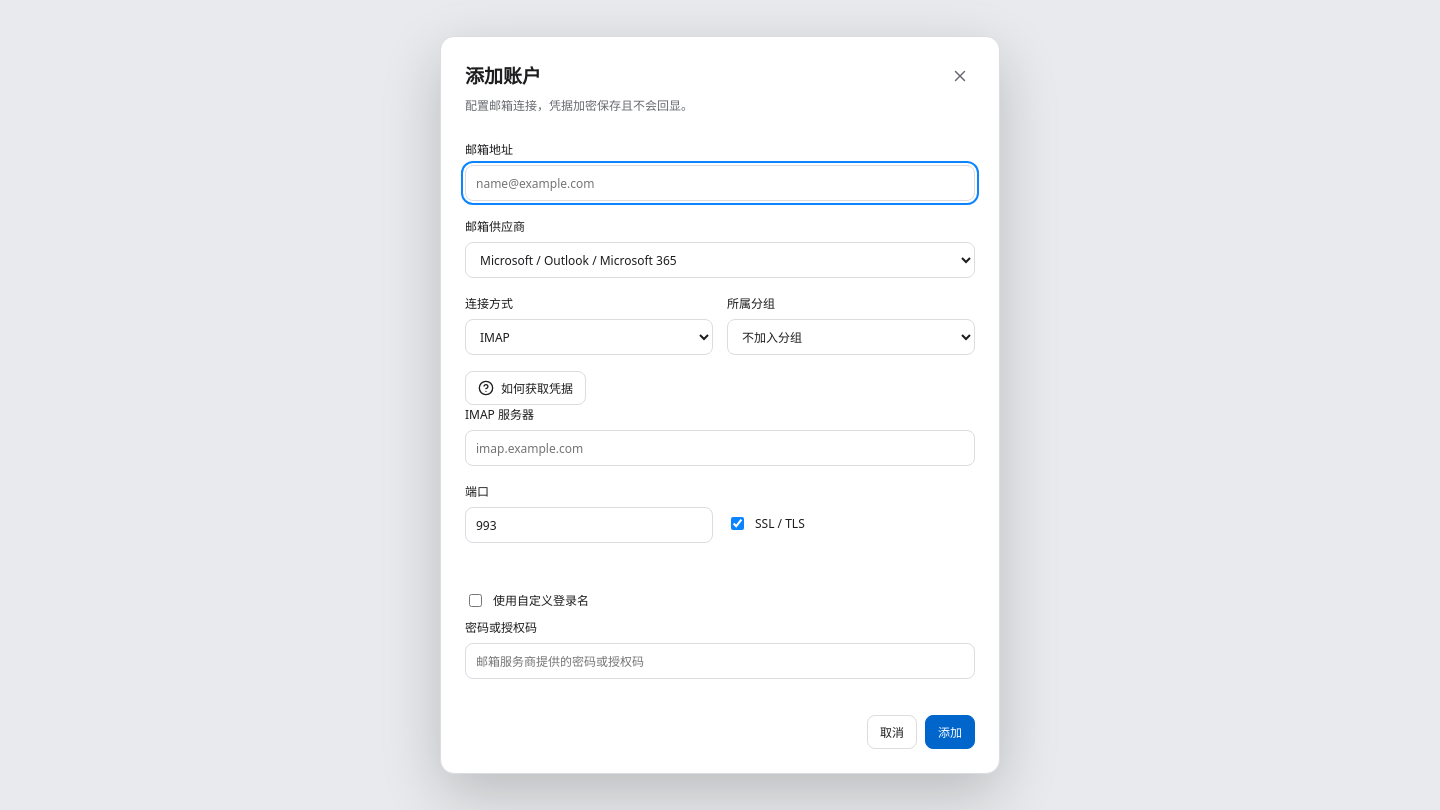
Test: Microsoft add form initial state shows only email, group, auth button and collapsed advanced options
The image size is (1440, 810).
Step 1. Select "Microsoft / Outlook / Microsoft 365" in the dropdown with id "account-vendor" → x=720, y=260, box [465,242,975,278]
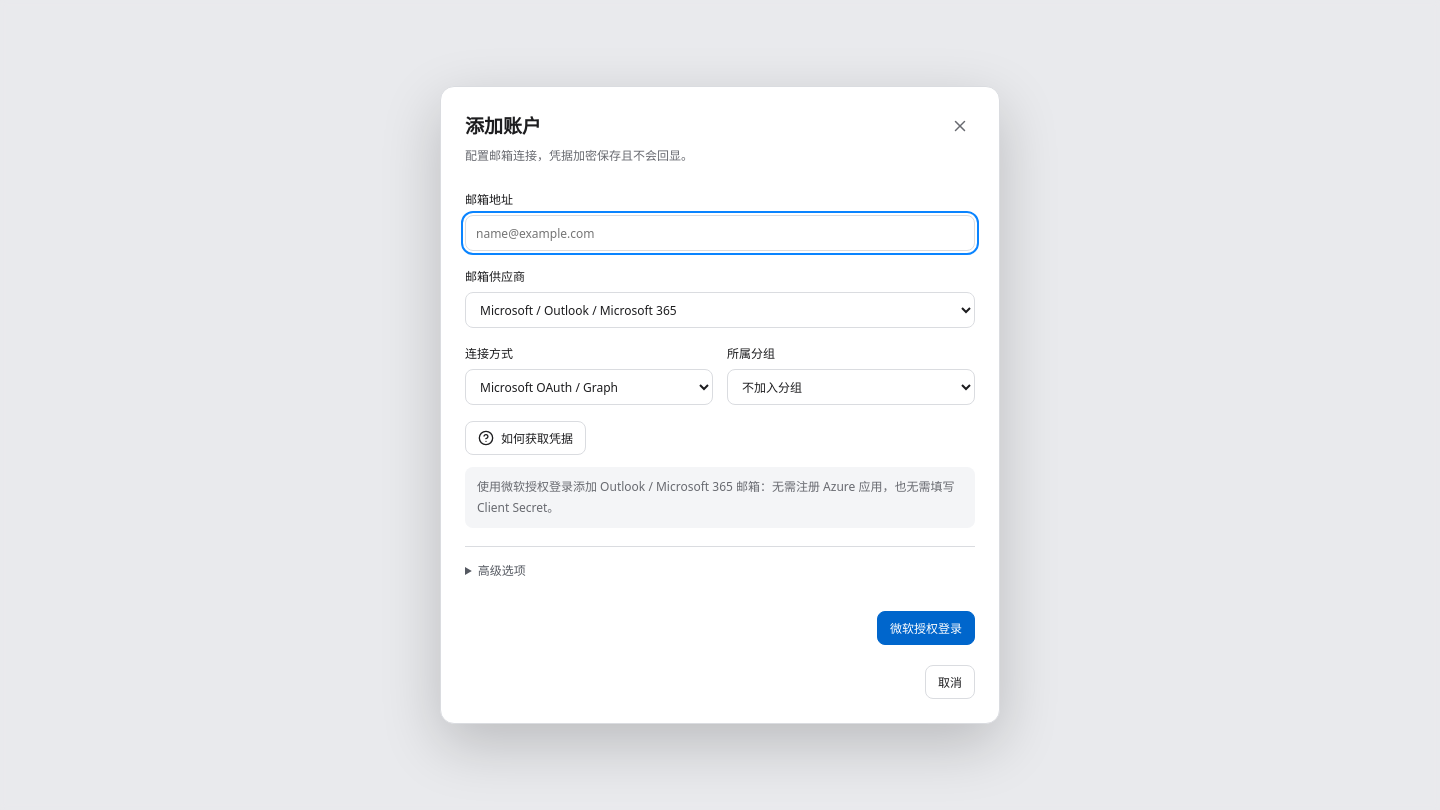
Expected: the field with id "account-email" is shown, [465,215,975,251]
Result: the submit button is gone
Result: the element with id "account-ms-redirect-uri" holds "http://localhost:8080" at [465,546,975,591]
